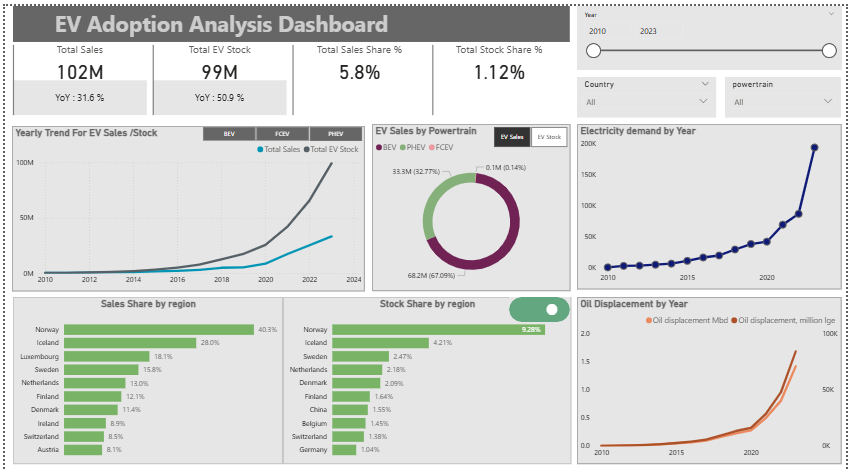

The page's visual inventory and layout, read from the dashboard file:
{"tool":"powerbi","page":{"name":"Page 1","canvas":[1450,800],"ordinal":0},"visuals":[{"type":"cardVisual","fields":{"Data":["EV Data.Total Sales","EV Data.Total EV Stock"]},"box":[483.2,8,497.6,164.8],"z":0},{"type":"lineChart","title":"Yearly Trend For EV Sales /Stock","fields":{"Category":["EV Data.year"],"Y":["EV Data.Total Sales","EV Data.Total EV Stock"]},"box":[13.3,183.3,606.7,305],"z":1000},{"type":"slicer","fields":{"Values":["EV Data.powertrain"]},"box":[321.7,183.3,313.3,26.7],"z":2000},{"type":"slicer","fields":{"Values":["EV Data.region"]},"box":[998.4,107.2,222.4,54.4],"z":3000},{"type":"slicer","fields":{"Values":["EV Data.year"]},"box":[998.4,8,432,99.2],"z":4000},{"type":"donutChart","fields":{"Y":["EV Data.Total EV Stock"],"Category":["EV Data.powertrain"]},"box":[635,183.3,343.3,305],"z":5000},{"type":"slicer","fields":{"Values":["Sales/Stock Metric.Sales/Stock Metric"]},"box":[811.7,183.3,166.7,38.3],"z":6000},{"type":"clusteredBarChart","title":"Sales by region","fields":{"Y":["EV Data.Total Sales"],"Category":["EV Data.region"]},"box":[13.3,501.7,486.7,288.3],"z":7000},{"type":"cardVisual","fields":{"Data":["EV Data.Total Sales"]},"box":[216,710.4,120,80],"z":8000},{"type":"clusteredBarChart","title":"EV Stock by region","fields":{"Category":["EV Data.region"],"Y":["EV Data.Total EV Stock"]},"box":[500,501.7,480,288.3],"z":9000},{"type":"cardVisual","fields":{"Data":["EV Data.Total EV Stock"]},"box":[678.4,710.4,124.8,80],"z":10000},{"type":"bookmarkNavigator","box":[886.7,501.7,88.3,46.7],"z":15000},{"type":"lineChart","title":"Electricity demand by Year","fields":{"Category":["EV Data.year"],"Y":["Sum(EV Data.Electricity demand)"]},"box":[998.3,183.3,443.3,305],"z":16000},{"type":"lineChart","title":"Oil Displacement by Year","fields":{"Category":["EV Data.year"],"Y":["Sum(EV Data.Oil displacement Mbd)"],"Y2":["Sum(EV Data.Oil displacement, million lge)"]},"box":[998.3,501.7,443.3,288.3],"z":17000},{"type":"slicer","fields":{"Values":["EV Data.powertrain"]},"box":[1214.4,107.2,216,54.4],"z":18000},{"type":"card","fields":{"Values":["EV Data.Total EV Stock"]},"box":[760,348.8,92.8,65.6],"z":19000},{"type":"textbox","box":[13,8,470,165],"z":20000}]}

Visuals, with their boxes in screenshot pixels (x1, y1, x2, y2), scaled from the page's 1450x800 canvas onto the 851x470 screenshot:
cardVisual - EV Data.Total Sales x EV Data.Total EV Stock: l=284, t=5, r=576, b=102
"Yearly Trend For EV Sales /Stock" lineChart: l=8, t=108, r=364, b=287
slicer - EV Data.powertrain: l=189, t=108, r=373, b=123
slicer - EV Data.region: l=586, t=63, r=716, b=95
slicer - EV Data.year: l=586, t=5, r=839, b=63
donutChart - EV Data.Total EV Stock x EV Data.powertrain: l=373, t=108, r=574, b=287
slicer - Sales/Stock Metric.Sales/Stock Metric: l=476, t=108, r=574, b=130
"Sales by region" clusteredBarChart: l=8, t=295, r=293, b=464
cardVisual - EV Data.Total Sales: l=127, t=417, r=197, b=464
"EV Stock by region" clusteredBarChart: l=293, t=295, r=575, b=464
cardVisual - EV Data.Total EV Stock: l=398, t=417, r=471, b=464
bookmarkNavigator: l=520, t=295, r=572, b=322
"Electricity demand by Year" lineChart: l=586, t=108, r=846, b=287
"Oil Displacement by Year" lineChart: l=586, t=295, r=846, b=464
slicer - EV Data.powertrain: l=713, t=63, r=839, b=95
card - EV Data.Total EV Stock: l=446, t=205, r=501, b=243
textbox: l=8, t=5, r=283, b=102
